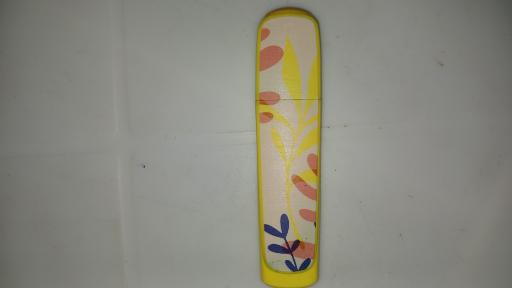Highlighter: (257, 7, 321, 288)
